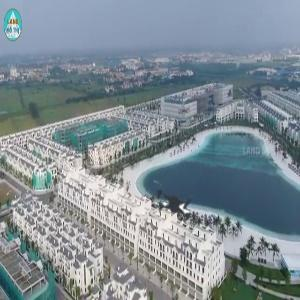drone: (134, 163, 218, 247)
